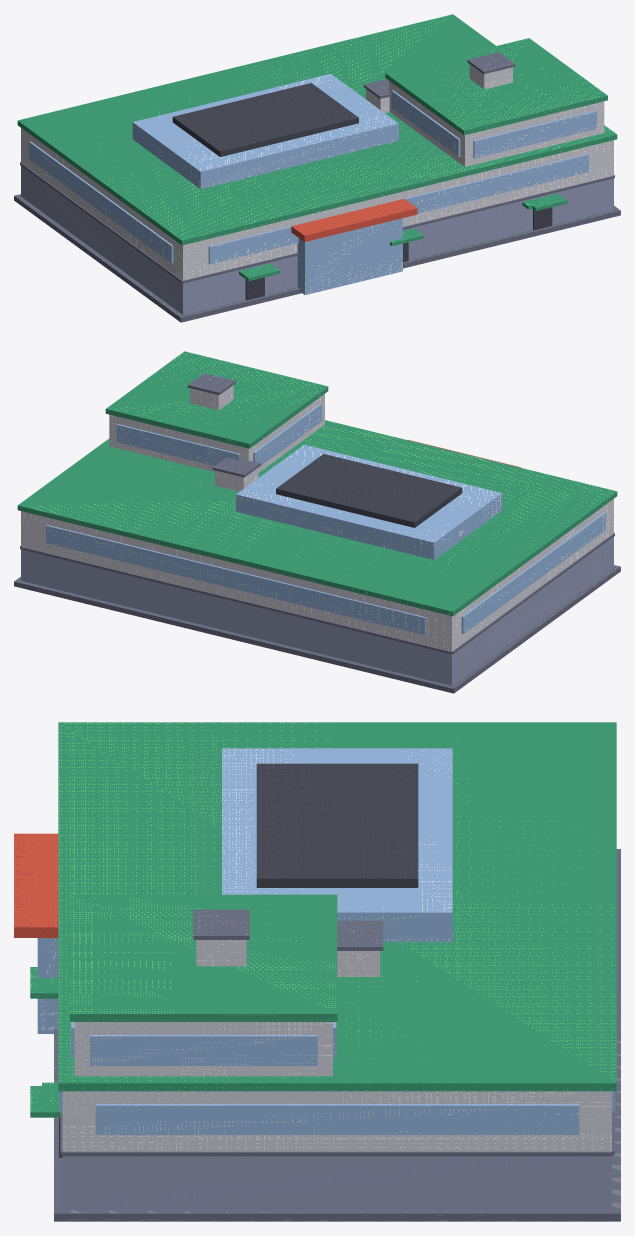
File: mall-3x2-l1.glb
3 renders of one model, top to bottom at view 1: azimuth 30°, elevation 25°; view 2: azimuth 150°, elevation 25°; view 3: azimuth 270°, elevation 25°, orthographic. The views are drawn at different scales.
Parts seen in each view (by area): view 1: mall-3x2-l1; view 2: mall-3x2-l1; view 3: mall-3x2-l1.
Boxes of the visible parts, x1=… form: mall-3x2-l1: x1=14, y1=14, x2=620, y2=322; mall-3x2-l1: x1=14, y1=351, x2=620, y2=693; mall-3x2-l1: x1=14, y1=722, x2=620, y2=1221.
Size of the model in its own units: 5.84 by 1.74 by 4.11.
1 material, 1 textured.
